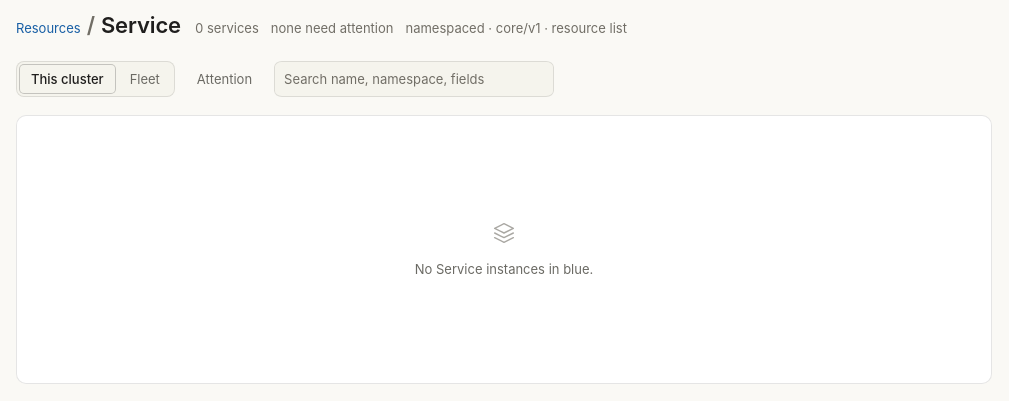
InstanceList › can browse a generic resource across connected clusters
Click the button "Fleet" at (145, 79), box [118, 64, 172, 94]
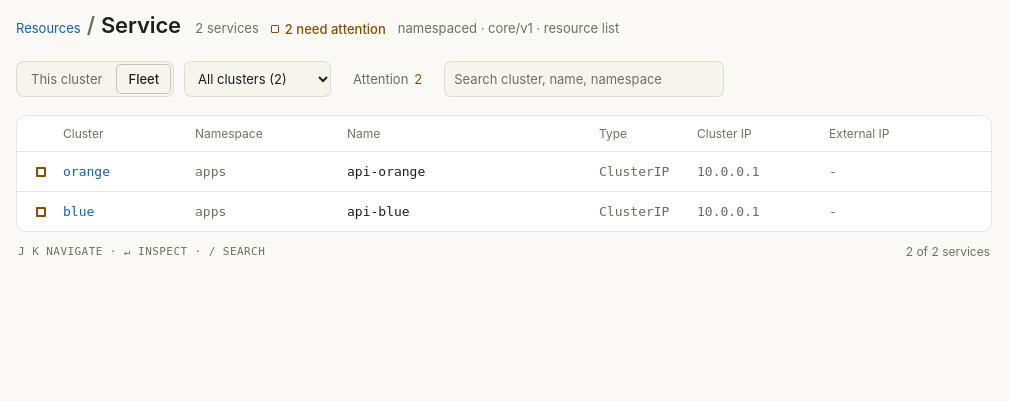
Now the text "api-blue" is shown, box [347, 202, 410, 220]
Now the text "api-orange" is shown, box [347, 162, 425, 180]
Now the text "Cluster" is shown, box [63, 126, 103, 140]
